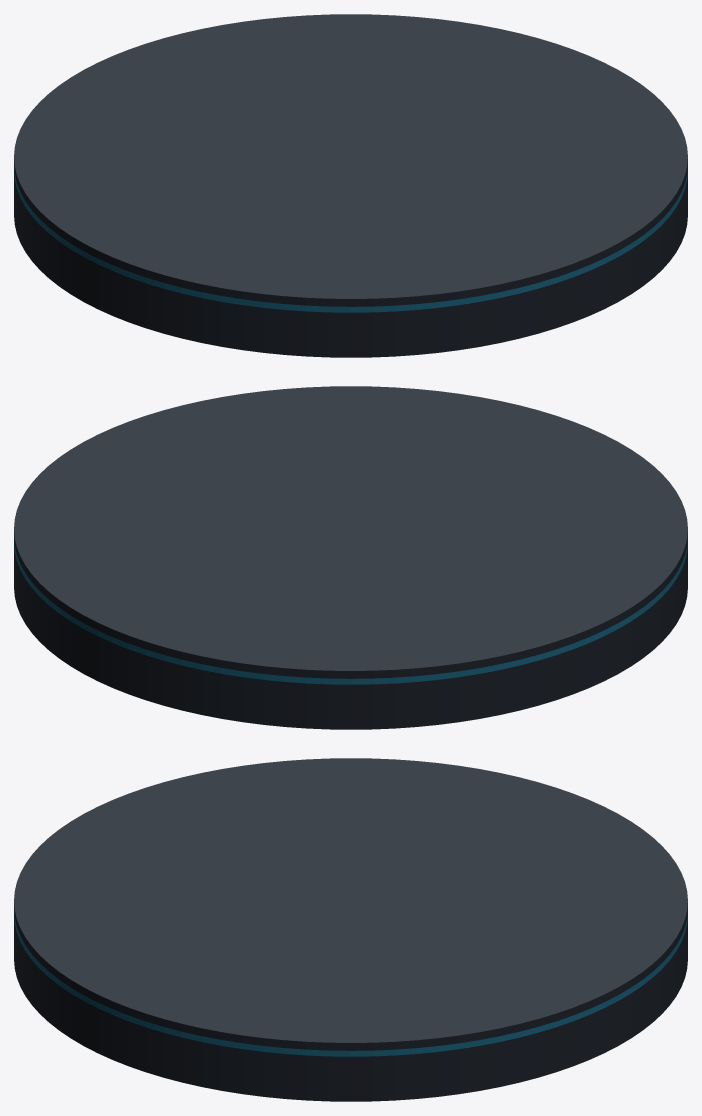
File: stage.obj
3 renders of one model, top to bottom at view 1: azimuth 30°, elevation 25°; view 2: azimuth 150°, elevation 25°; view 3: azimuth 270°, elevation 25°, orthographic.
Visible parts, largest first — view 1: Circular_Display_Stage; view 2: Circular_Display_Stage; view 3: Circular_Display_Stage.
Part boxes in pixels (left/top/right/bottom): Circular_Display_Stage: left=14, top=14, right=687, bottom=357; Circular_Display_Stage: left=14, top=386, right=687, bottom=729; Circular_Display_Stage: left=14, top=758, right=687, bottom=1101.
Size of the model in its own units: 1.56 by 0.15 by 1.56.
